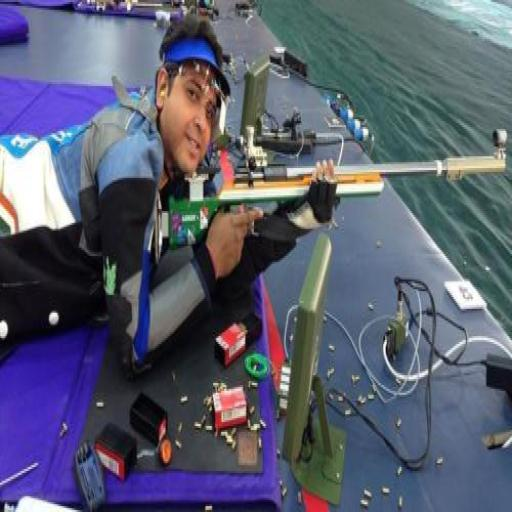shooting: (0, 12, 341, 381)
